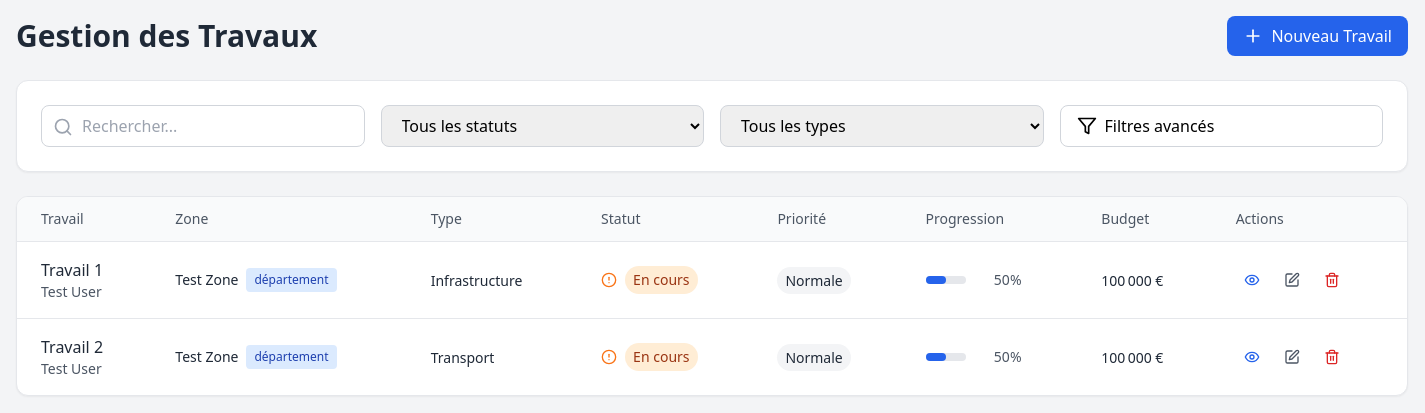
TravauxList › should handle type filter
expect the heading "Gestion des Travaux" is shown: met, box [16,18,317,54]
expect the heading "Travail 1" is shown: met, box [41,259,103,281]
Select "Infrastructure" in the 2nd dropdown showing "Tous les types" at {"x": 882, "y": 126}, box [720,105,1044,147]
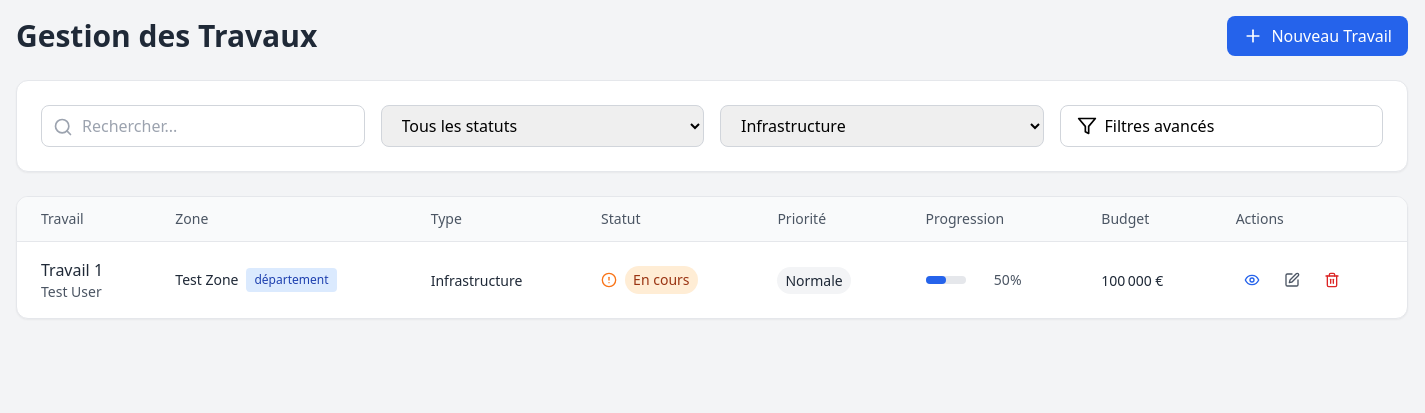
expect the heading "Travail 1" is shown: met, box [41,259,103,281]
expect the heading "Travail 2" is gone: met
